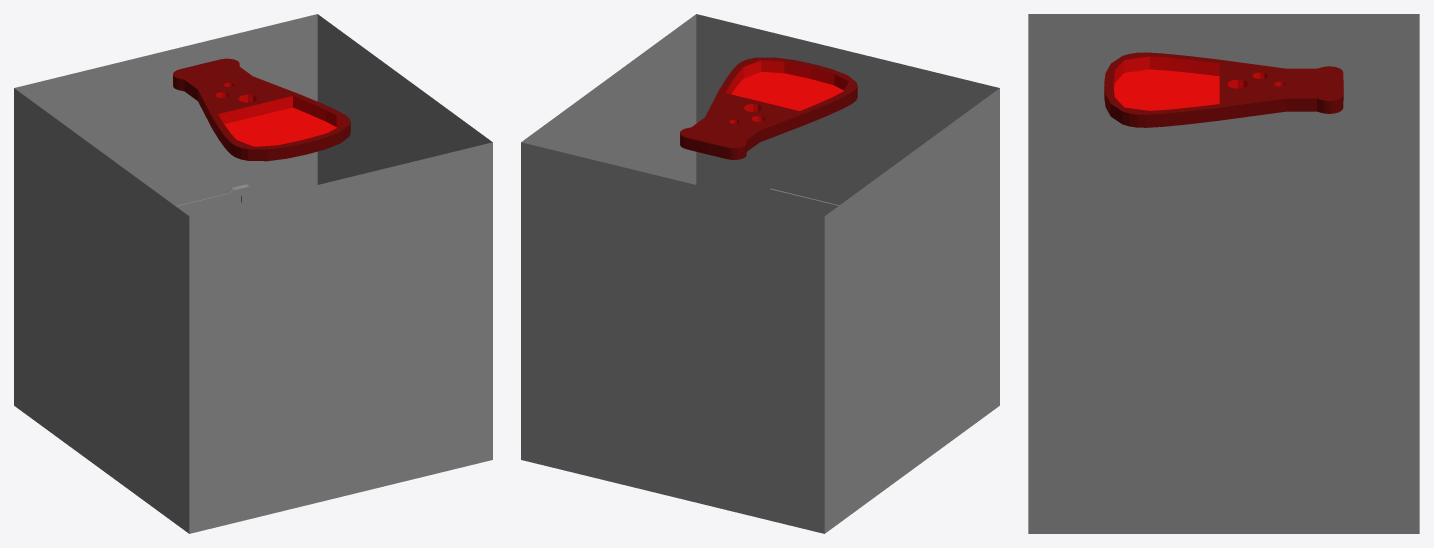
File: ResearchRoom.fbx
The picture shows the model from 3 angles, left to right: view 1: azimuth 30°, elevation 25°; view 2: azimuth 150°, elevation 25°; view 3: azimuth 270°, elevation 25°; orthographic projection. The views are drawn at different scales.
Parts seen in each view (by area): view 1: ResearchRoom; view 2: ResearchRoom; view 3: ResearchRoom.
Part boxes in pixels (x1=…): ResearchRoom: x1=14, y1=14, x2=492, y2=533; ResearchRoom: x1=521, y1=14, x2=999, y2=533; ResearchRoom: x1=1028, y1=14, x2=1419, y2=533.
Size of the model in its own units: 197 by 204 by 197.
